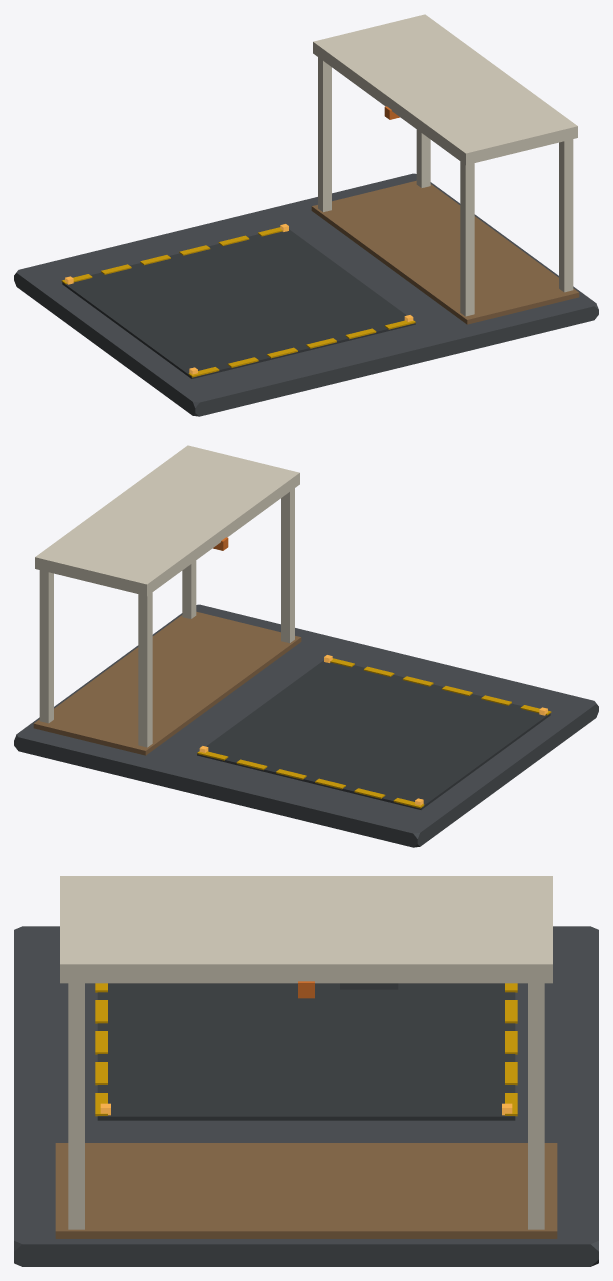
Rendered from hum_str_pad.glb.
The picture shows the model from 3 angles, top to bottom: view 1: azimuth 30°, elevation 25°; view 2: azimuth 150°, elevation 25°; view 3: azimuth 270°, elevation 25°; orthographic projection. The views are drawn at different scales.
Visible parts, largest first — view 1: pad; view 2: pad; view 3: pad.
Part boxes in pixels (x1,y1,x2,y2): pad: (14, 14, 598, 416); pad: (14, 445, 598, 847); pad: (14, 876, 598, 1266).
Bounding box in the file's own units: 18 × 7.85 × 14.
2 materials, 2 textured.
